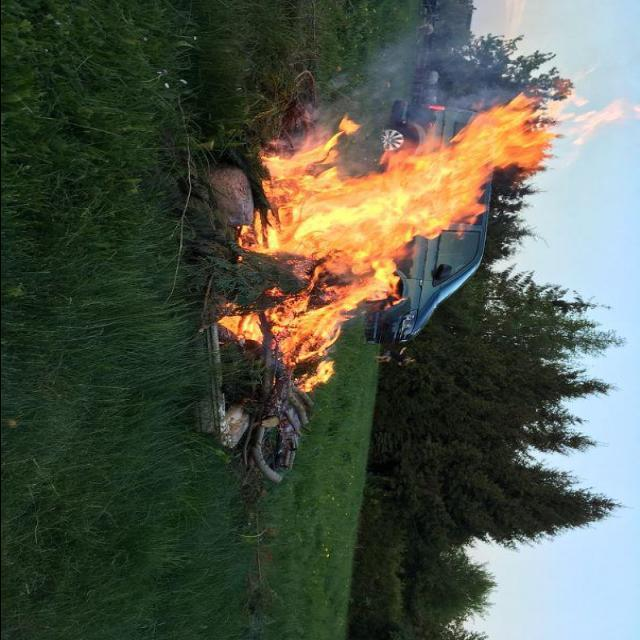Fire: (230, 45, 636, 387)
